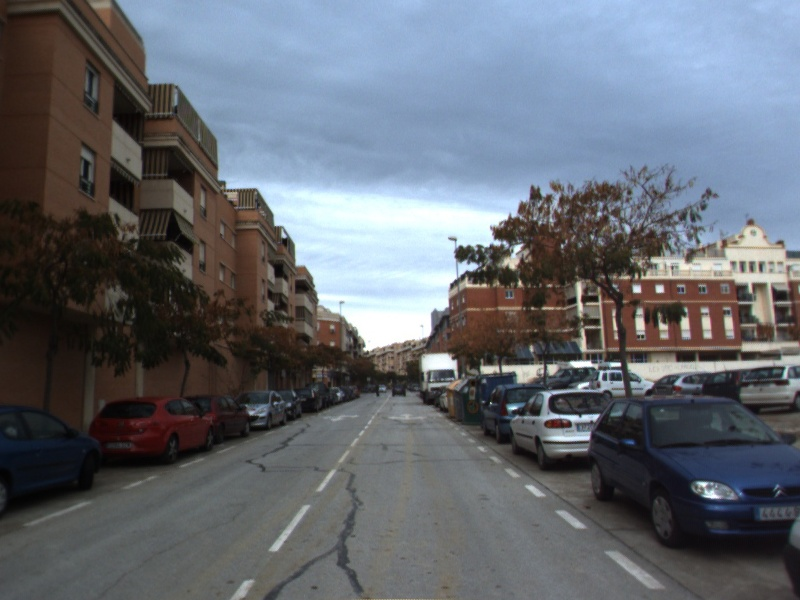STRAIGHT_LEFT_RIGHT: (386, 410, 429, 423)
